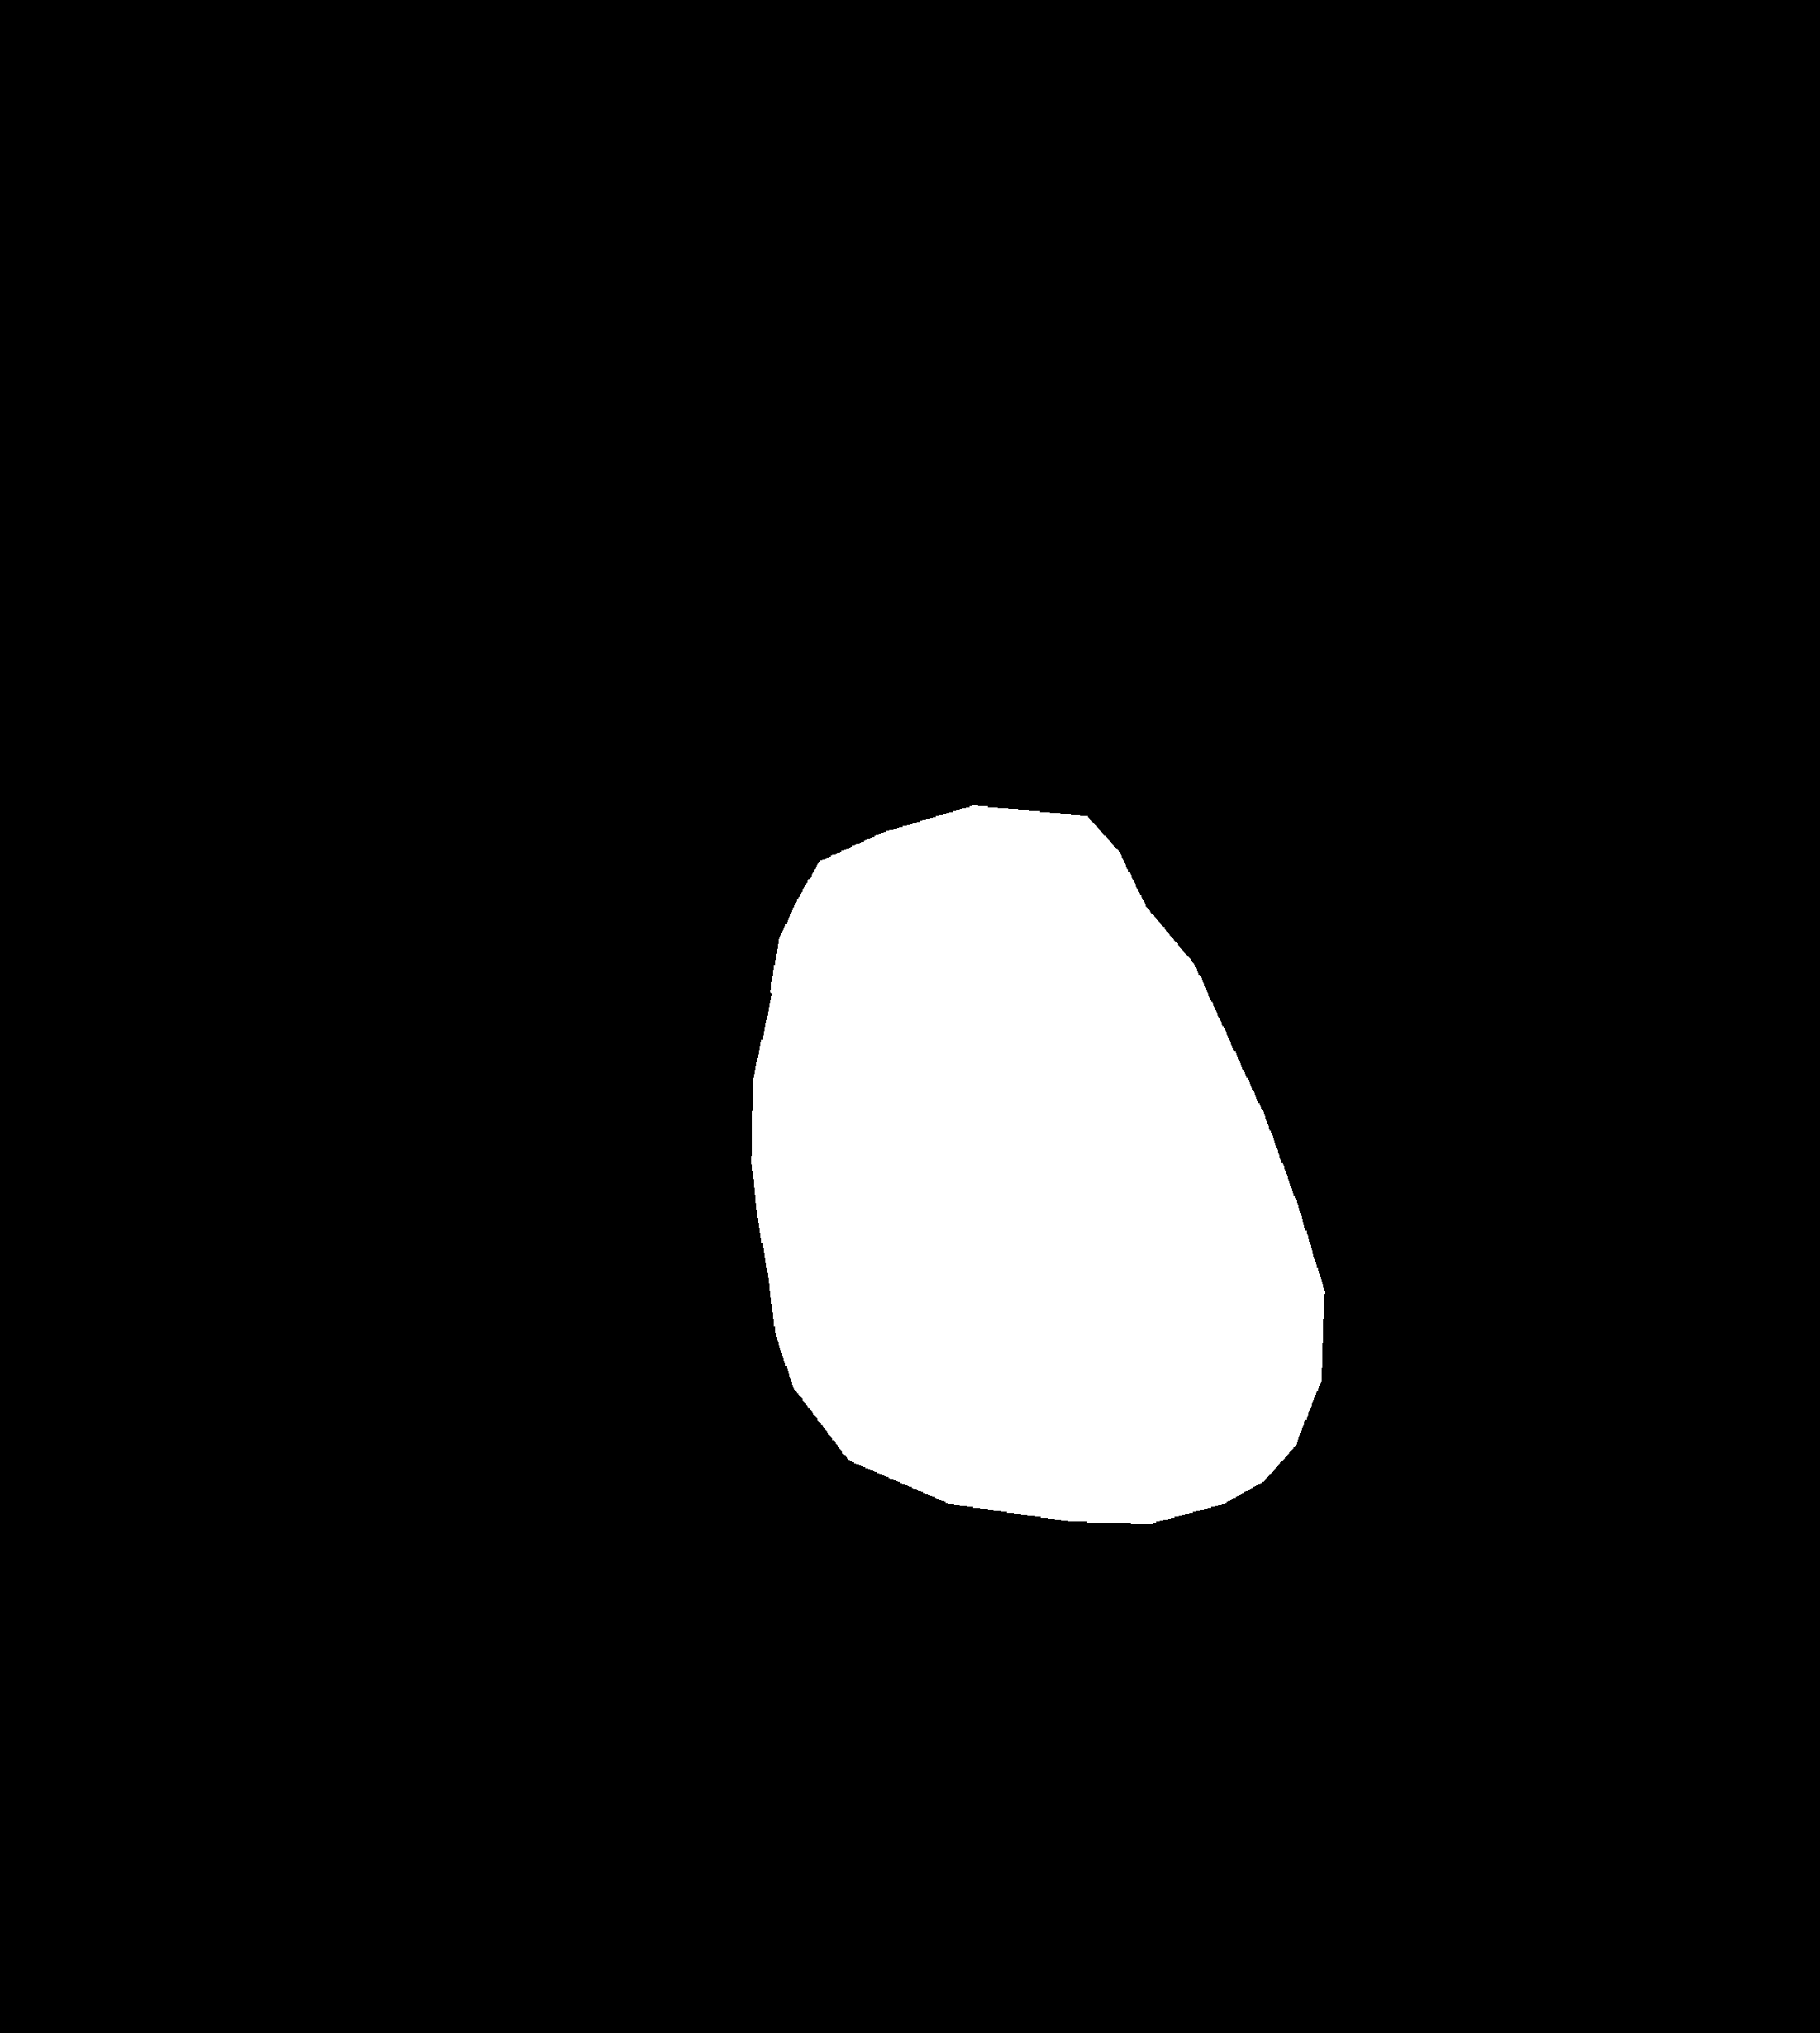heart: (745, 915, 1328, 1515)
left_lung: (241, 216, 826, 1697)
right_lung: (986, 257, 1643, 1657)
